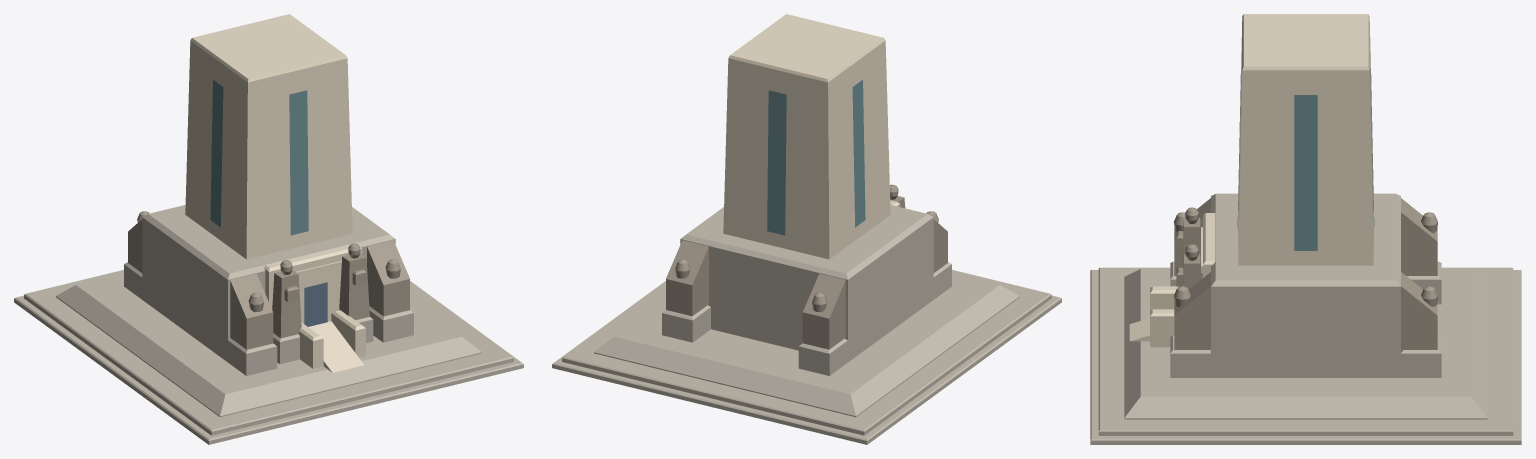
File: mexico-city-monumento-a-alvaro-obregon.glb
3 renders of one model, left to right at view 1: azimuth 30°, elevation 25°; view 2: azimuth 150°, elevation 25°; view 3: azimuth 270°, elevation 25°, orthographic. The views are drawn at different scales.
Parts seen in each view (by area): view 1: Monumento a Álvaro Obregón; view 2: Monumento a Álvaro Obregón; view 3: Monumento a Álvaro Obregón.
Part boxes in pixels (x1=…): Monumento a Álvaro Obregón: x1=14, y1=14, x2=523, y2=444; Monumento a Álvaro Obregón: x1=552, y1=14, x2=1061, y2=444; Monumento a Álvaro Obregón: x1=1090, y1=14, x2=1521, y2=444.
Size of the model in its own units: 29.7 by 26 by 31.8.
